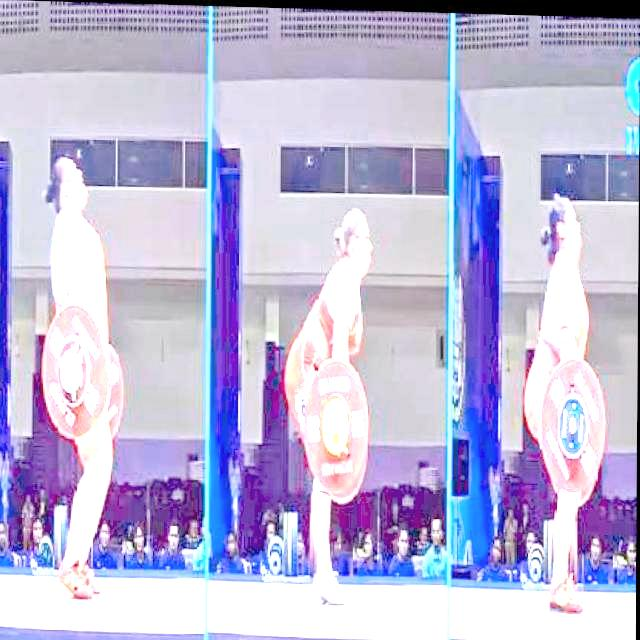barbell: (535, 350, 617, 497), (302, 352, 379, 500), (40, 297, 113, 444)
